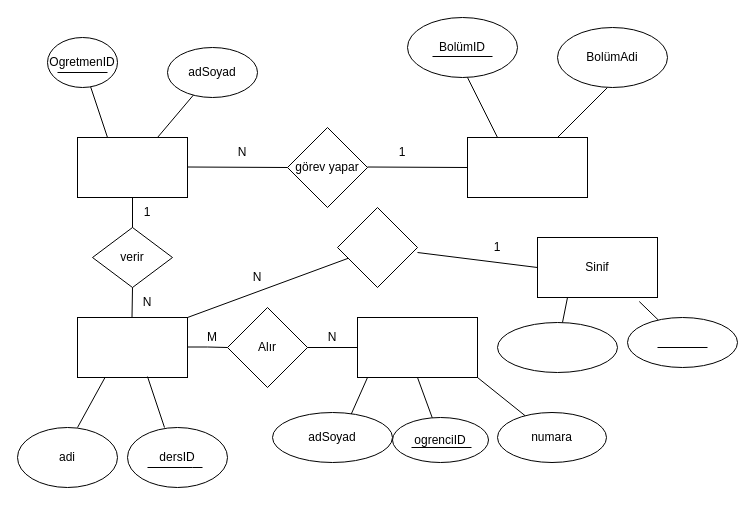
Some shapes in this 755 by 505 pixel diagram are drawn without their labels. The shapes that lost their labels are listed below. From the top down, each one's box as (x1, y1, x2, y2) in pixels, then its label:
(76, 136, 188, 198): Ogretmen
(466, 136, 588, 198): Bolum
(336, 206, 418, 288): işlenir
(76, 316, 188, 378): Ders
(356, 316, 478, 378): Ogrenci
(496, 322, 618, 372): sinifno
(626, 316, 738, 368): sinifID
